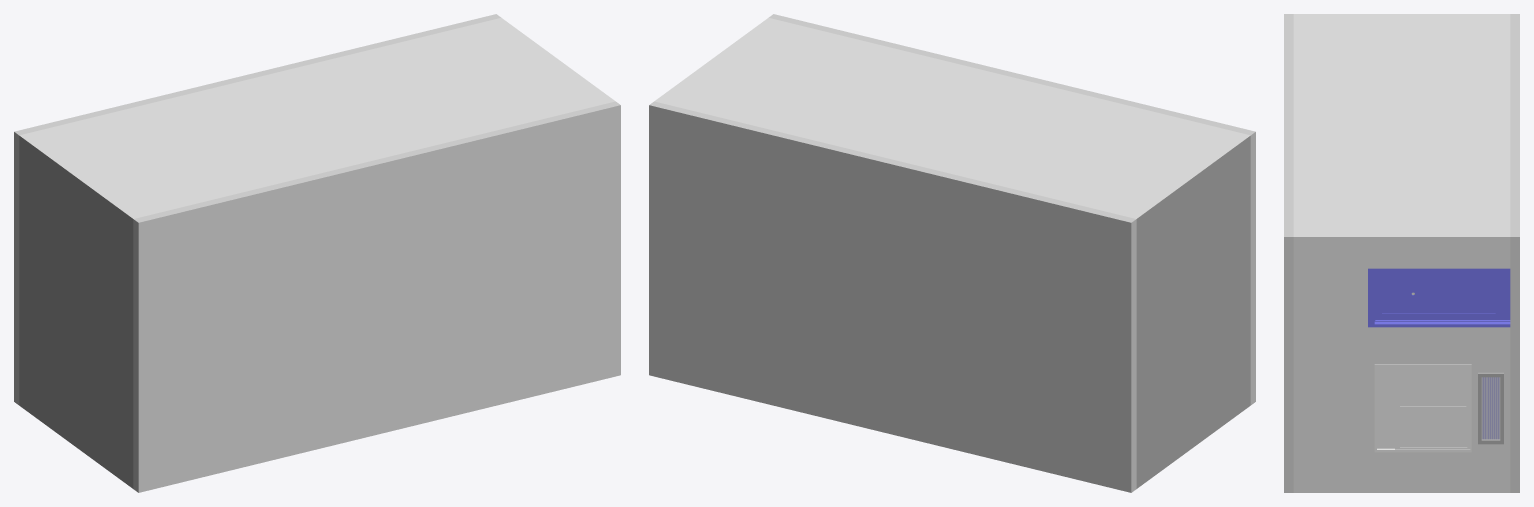
The model's file is smartroomapp.glb.
3 renders of one model, left to right at view 1: azimuth 30°, elevation 25°; view 2: azimuth 150°, elevation 25°; view 3: azimuth 270°, elevation 25°, orthographic. The views are drawn at different scales.
Visible parts, largest first — view 1: Generic_-_6"_Landing, Ext-6_34"_wall, Ext-6_34"_wall_with_finish, Generic_-_6"_Landing_1, Ext-6_34"_wall_with_finish_1; view 2: Generic_-_6"_Landing_1, Ext-6_34"_wall, Ext-6_34"_wall_with_finish, Generic_-_6"_Landing, Ext-6_34"_wall_with_finish_1; view 3: Ext-6_34"_wall, Ext-6_34"_wall_1, 3'-0"_x_6'-8", WIN_1_2, Generic_-_6"_Landing, Generic_-_6"_Landing_1, WIN_1, WIN_1_6, Ext-6_34"_wall_with_finish_1, WIN_1_5.
Part boxes in pixels (x1,y1,x2,y2): Generic_-_6"_Landing: (133, 101, 620, 492); Ext-6_34"_wall: (30, 17, 615, 216); Ext-6_34"_wall_with_finish: (19, 136, 133, 488); Generic_-_6"_Landing_1: (14, 14, 500, 405); Ext-6_34"_wall_with_finish_1: (19, 133, 143, 218); Generic_-_6"_Landing_1: (649, 101, 1136, 492); Ext-6_34"_wall: (654, 17, 1239, 216); Ext-6_34"_wall_with_finish: (1136, 136, 1250, 488); Generic_-_6"_Landing: (769, 14, 1255, 405); Ext-6_34"_wall_with_finish_1: (1126, 133, 1250, 218); Ext-6_34"_wall: (1293, 19, 1510, 246); Ext-6_34"_wall_1: (1293, 247, 1510, 492); 3'-0"_x_6'-8": (1368, 268, 1510, 327); WIN_1_2: (1377, 366, 1467, 448); Generic_-_6"_Landing: (1284, 14, 1293, 492); Generic_-_6"_Landing_1: (1510, 14, 1519, 492); WIN_1: (1374, 364, 1471, 452); WIN_1_6: (1482, 377, 1499, 439); Ext-6_34"_wall_with_finish_1: (1293, 14, 1510, 18); WIN_1_5: (1478, 372, 1503, 444).
Bounding box in the file's own units: 27.36 × 14.56 × 12.17.
